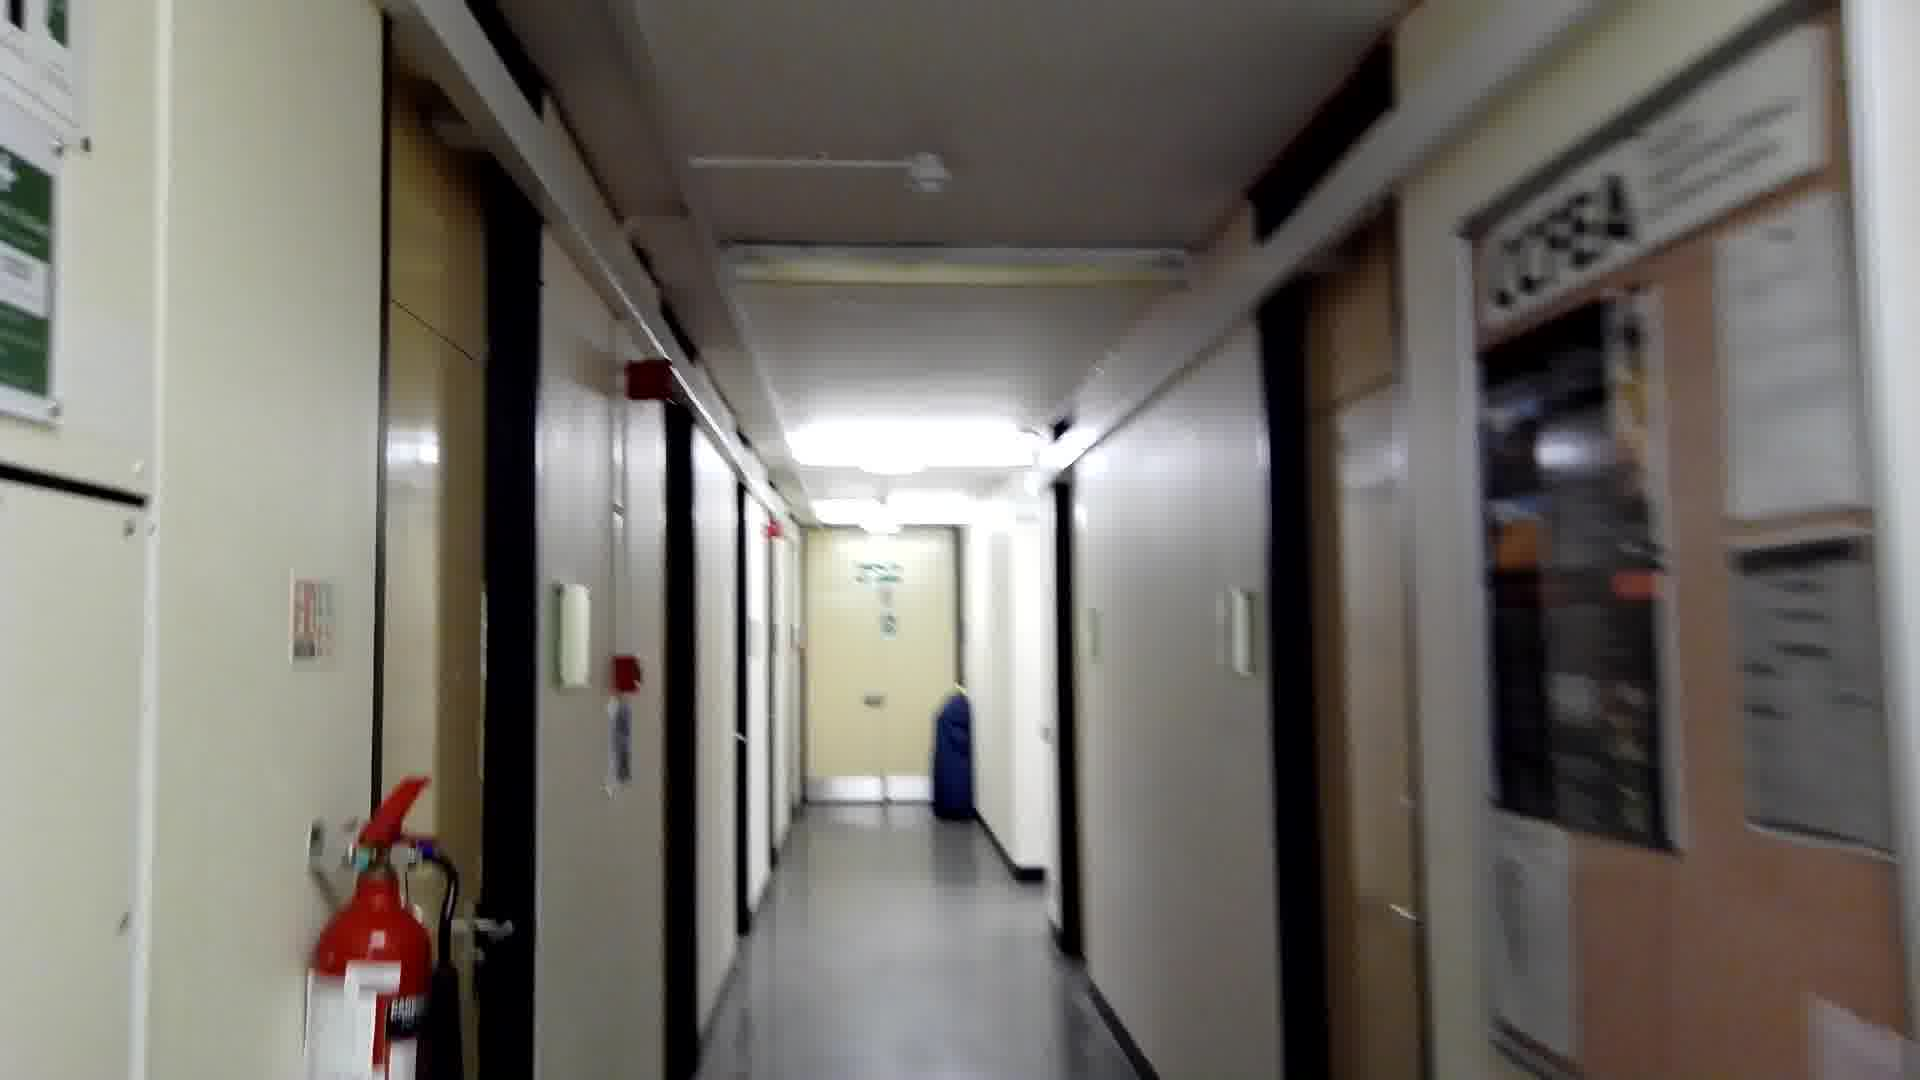Bin: (928, 682, 980, 828)
Door: (1237, 157, 1457, 1080)
